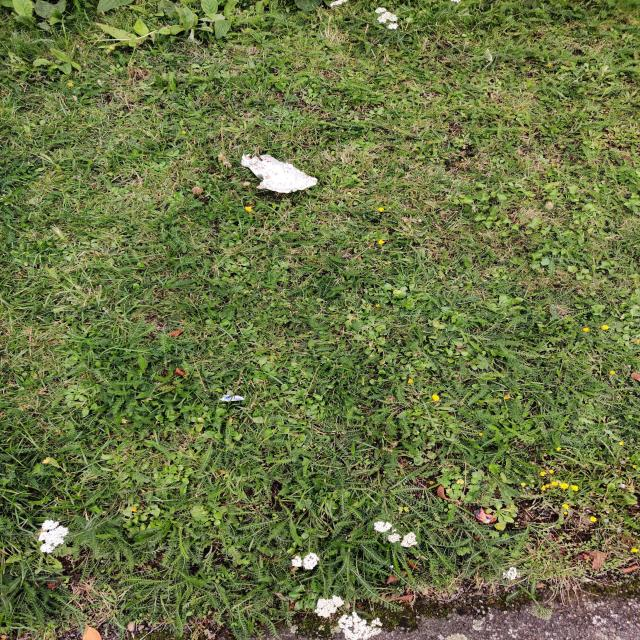litter: (241, 152, 319, 195), (219, 394, 248, 402)
